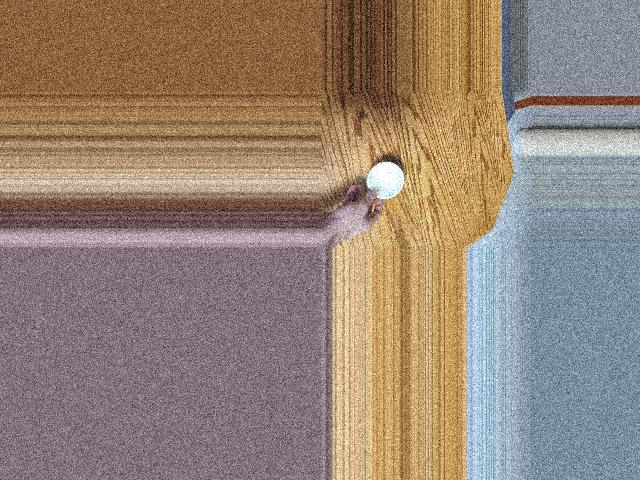cotage: (363, 160, 403, 202)
